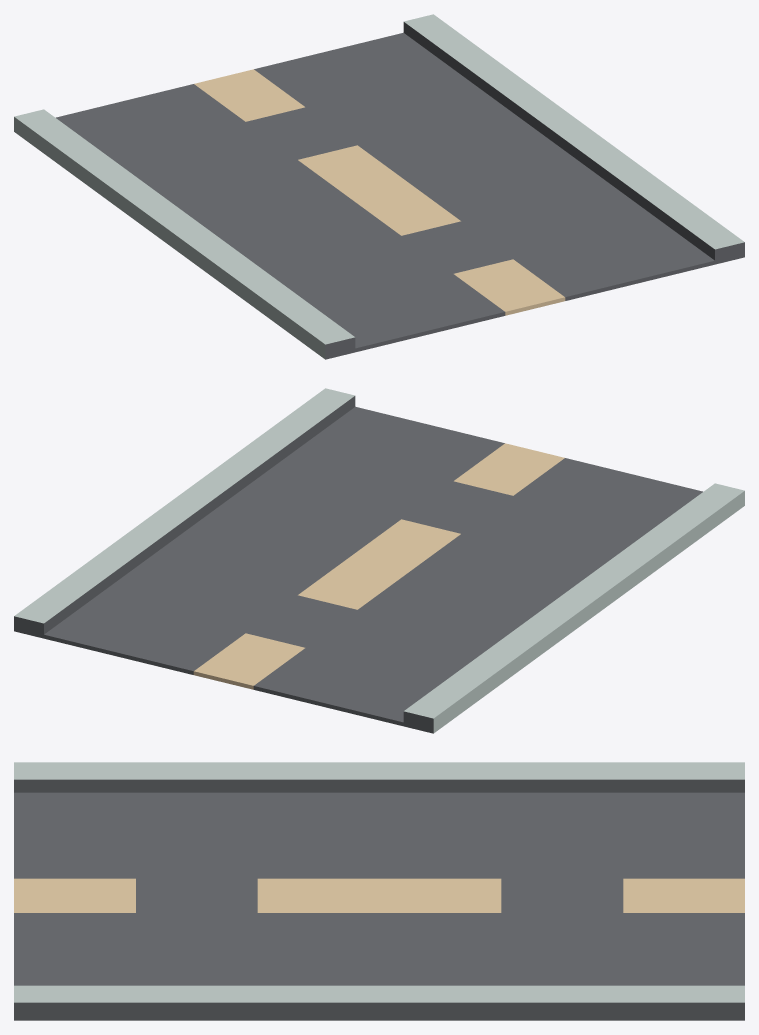
Rendered from Stright_Road.fbx.
3 renders of one model, top to bottom at view 1: azimuth 30°, elevation 25°; view 2: azimuth 150°, elevation 25°; view 3: azimuth 270°, elevation 25°, orthographic. The views are drawn at different scales.
Visible parts, largest first — view 1: Stright_Road; view 2: Stright_Road; view 3: Stright_Road.
Boxes of the visible parts, bbox=[...] form: Stright_Road: bbox=[14, 14, 744, 359]; Stright_Road: bbox=[14, 388, 744, 733]; Stright_Road: bbox=[14, 762, 744, 1020].
Size of the model in its own units: 7 by 0.241 by 9.
